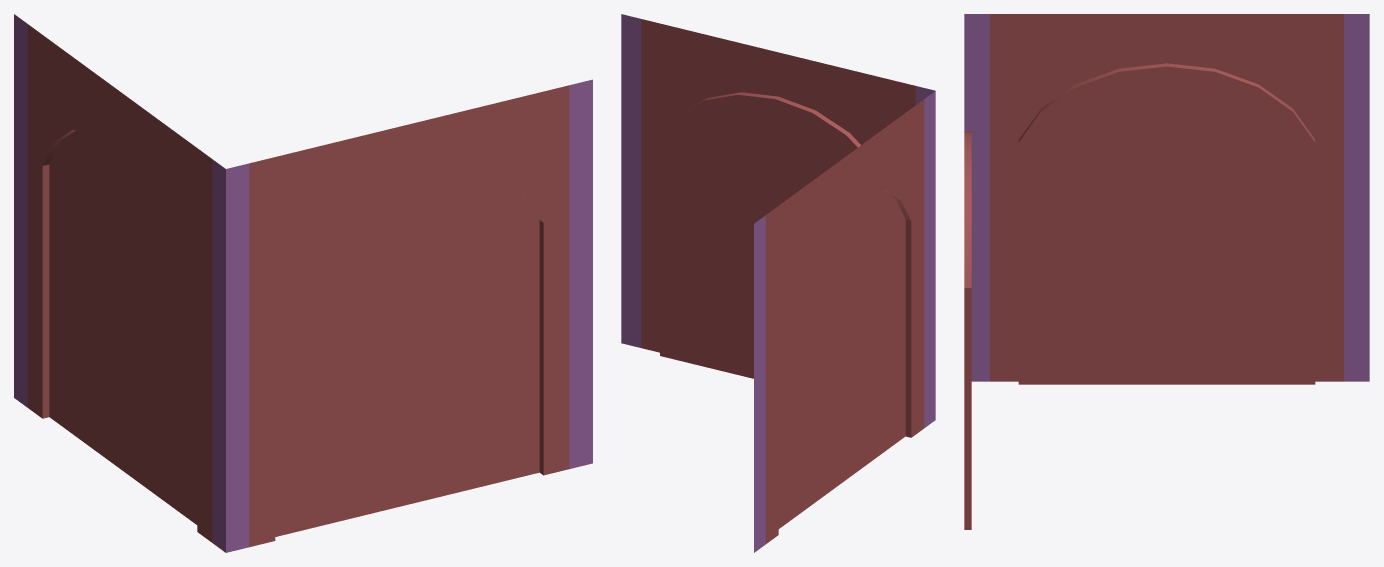
Rendered from ceiling_corner.fbx.
3 views of the same model, side by side, from view 1: azimuth 30°, elevation 25°; view 2: azimuth 150°, elevation 25°; view 3: azimuth 270°, elevation 25° (orthographic). The views are drawn at different scales.
Parts seen in each view (by area): view 1: polySurface12, polySurface9, polySurface11, polySurface13, polySurface10; view 2: polySurface12, polySurface9, polySurface13, polySurface11, polySurface10; view 3: polySurface9, polySurface10, polySurface11, polySurface12.
Boxes of the visible parts, left/top/right/bottom form: polySurface12: left=249, top=85, right=569, bottom=547; polySurface9: left=27, top=24, right=212, bottom=542; polySurface11: left=212, top=159, right=249, bottom=552; polySurface13: left=569, top=79, right=592, bottom=468; polySurface10: left=14, top=14, right=27, bottom=407; polySurface12: left=641, top=19, right=915, bottom=378; polySurface9: left=765, top=99, right=924, bottom=543; polySurface13: left=621, top=14, right=641, bottom=347; polySurface11: left=915, top=86, right=935, bottom=427; polySurface10: left=754, top=215, right=765, bottom=552; polySurface9: left=990, top=14, right=1343, bottom=384; polySurface10: left=1344, top=14, right=1369, bottom=381; polySurface11: left=964, top=14, right=989, bottom=381; polySurface12: left=964, top=131, right=971, bottom=529.
Bounding box in the file's own units: 1 × 1 × 1.
